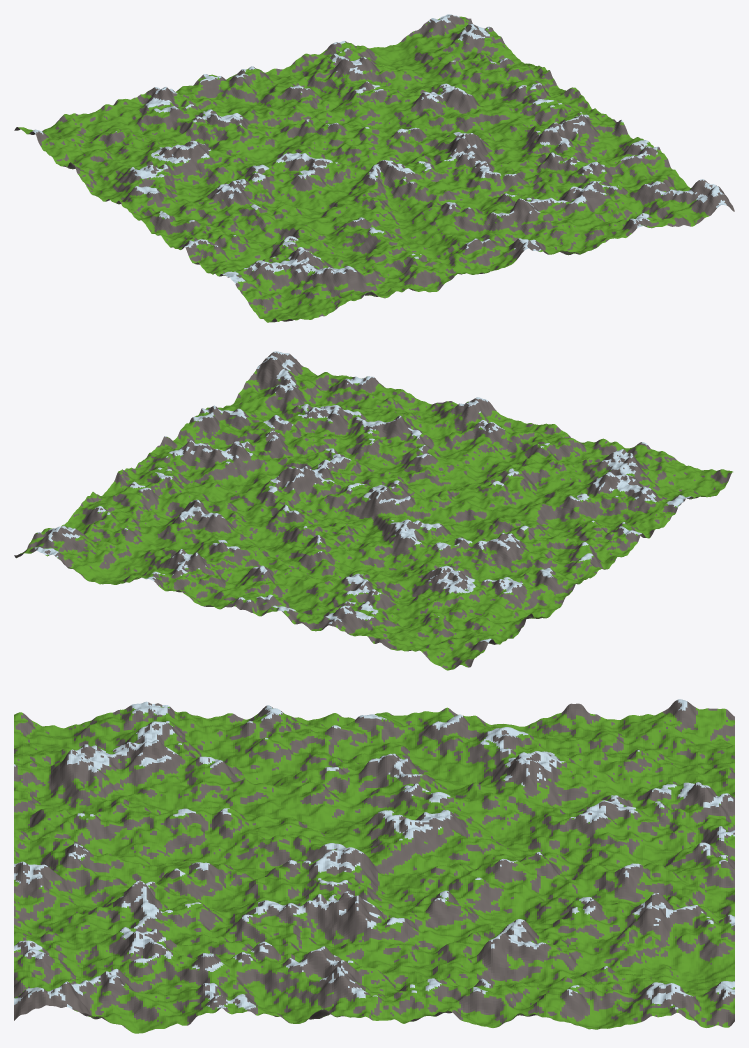
Rendered from Mountains.fbx.
3 renders of one model, top to bottom at view 1: azimuth 30°, elevation 25°; view 2: azimuth 150°, elevation 25°; view 3: azimuth 270°, elevation 25°, orthographic. The views are drawn at different scales.
Visible parts, largest first — view 1: Plane; view 2: Plane; view 3: Plane.
Boxes of the visible parts, box(x1,y1,x2,y2) form: Plane: box(14, 14, 734, 322); Plane: box(14, 351, 732, 670); Plane: box(14, 699, 734, 1033).
Size of the model in its own units: 200 by 14.4 by 200.
